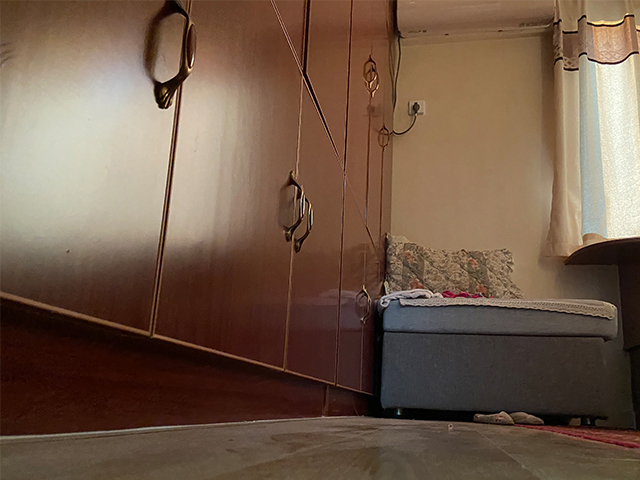cabinet: (1, 1, 394, 437)
carpet: (524, 424, 640, 450)
curtain: (549, 1, 640, 258)
stool: (381, 295, 619, 426)
